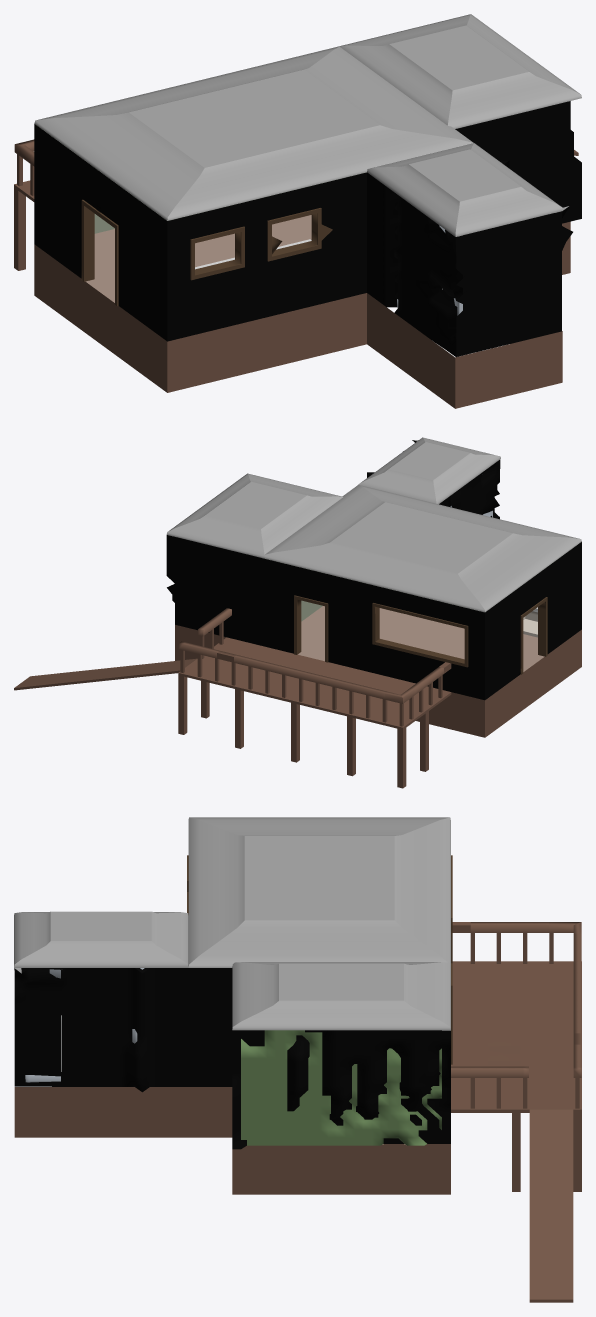
Rendered from House.fbx.
The picture shows the model from 3 angles, top to bottom: view 1: azimuth 30°, elevation 25°; view 2: azimuth 150°, elevation 25°; view 3: azimuth 270°, elevation 25°; orthographic projection. The views are drawn at different scales.
Visible parts, largest first — view 1: pPlane2, pCube1, pCube2, pCube3; view 2: pPlane2, pCube1, pCube2, pCube3; view 3: pPlane2, pCube1, pCube2, pCube3.
Boxes of the visible parts, x1,y1,x2,y2 form: pPlane2: [14, 101, 581, 408]; pCube1: [34, 46, 473, 220]; pCube2: [338, 14, 581, 128]; pCube3: [367, 143, 562, 236]; pPlane2: [14, 440, 581, 788]; pCube1: [264, 485, 581, 612]; pCube2: [166, 473, 342, 558]; pCube3: [358, 437, 500, 504]; pPlane2: [14, 855, 581, 1302]; pCube1: [188, 817, 450, 967]; pCube2: [232, 962, 450, 1030]; pCube3: [14, 911, 188, 967].
Bounding box in the file's own units: 38.14 × 13.71 × 32.49.
